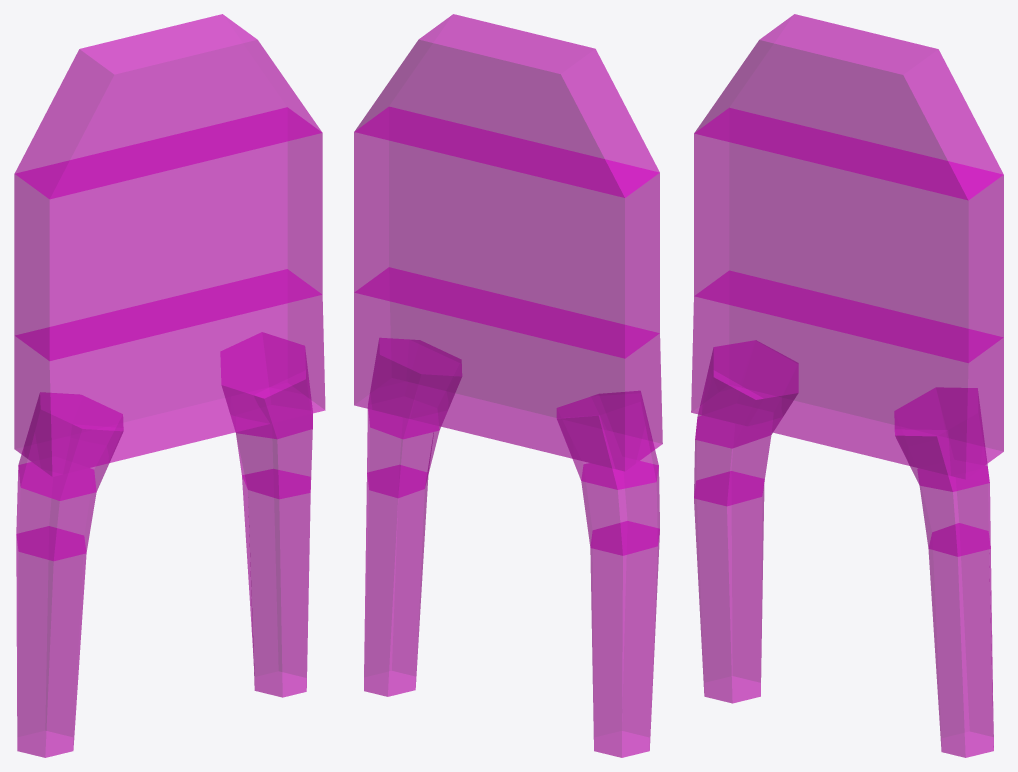
Rendered from SM_Prop_Greeble_11_Collision.fbx.
The picture shows the model from 3 angles, left to right: view 1: azimuth 30°, elevation 25°; view 2: azimuth 150°, elevation 25°; view 3: azimuth 330°, elevation 25°; orthographic projection.
Parts seen in each view (by area): view 1: SM_Prop_Greeble_11_Collision; view 2: SM_Prop_Greeble_11_Collision; view 3: SM_Prop_Greeble_11_Collision.
Boxes of the visible parts, box(x1,y1,x2,y2) form: SM_Prop_Greeble_11_Collision: box(14, 14, 325, 757); SM_Prop_Greeble_11_Collision: box(354, 14, 662, 757); SM_Prop_Greeble_11_Collision: box(691, 14, 1003, 757).
Size of the model in its own units: 551 by 1210 by 145.
